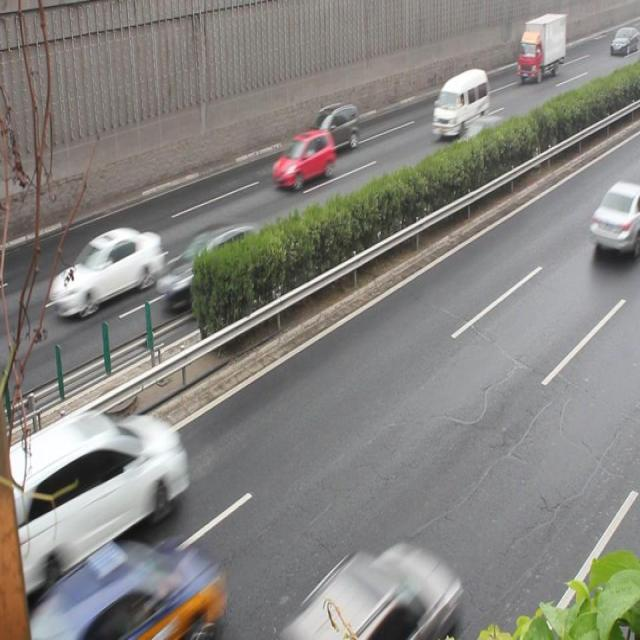bus: (516, 12, 565, 79)
car: (22, 410, 185, 574), (47, 225, 162, 322), (158, 223, 268, 310), (588, 179, 640, 257), (272, 130, 335, 192), (447, 117, 510, 175), (304, 102, 359, 150)
truck: (432, 69, 488, 137)
